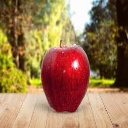apple: (40, 42, 91, 112)
